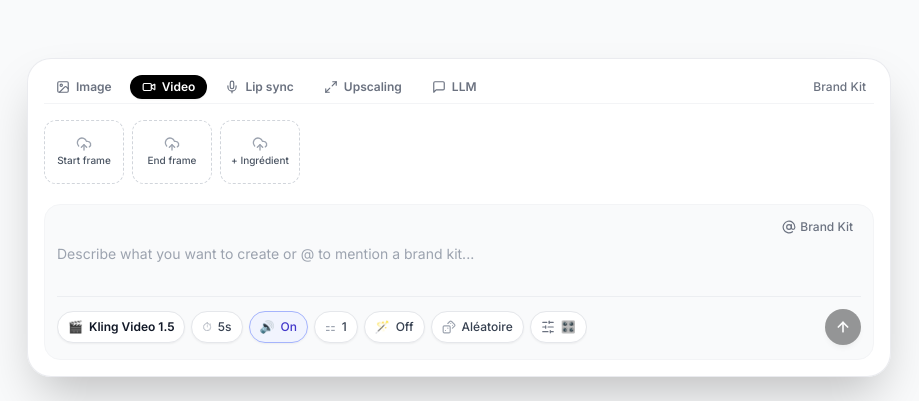
Test: LLM Mode & FloatingPromptDock Integration (TDD) › FloatingPromptDock › submits generation with exact mode type and catches submission errors
Note: In Image mode
Click the tab "Image" at (84, 86), box [44,74,124,98]
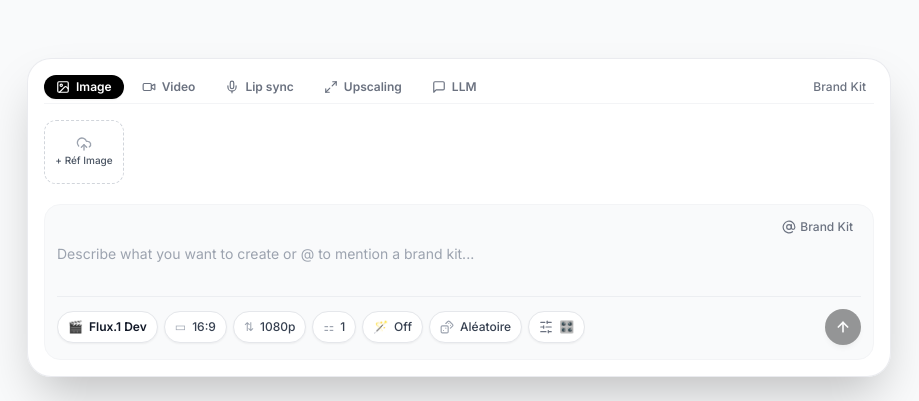
Replace the text in the text box with placeholder "Describe what you want to create" with "Futuristic city" at (459, 265), box [57,242,861,288]
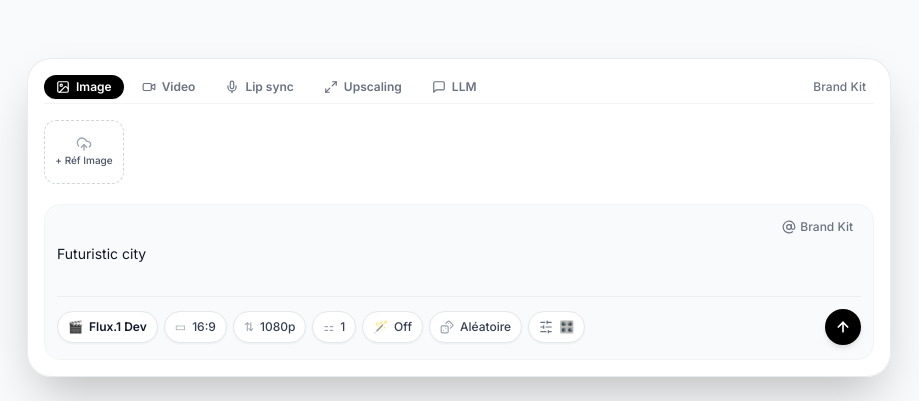
Note: Click submit
Click the button named "Submit" at (843, 327), box [825,309,861,345]
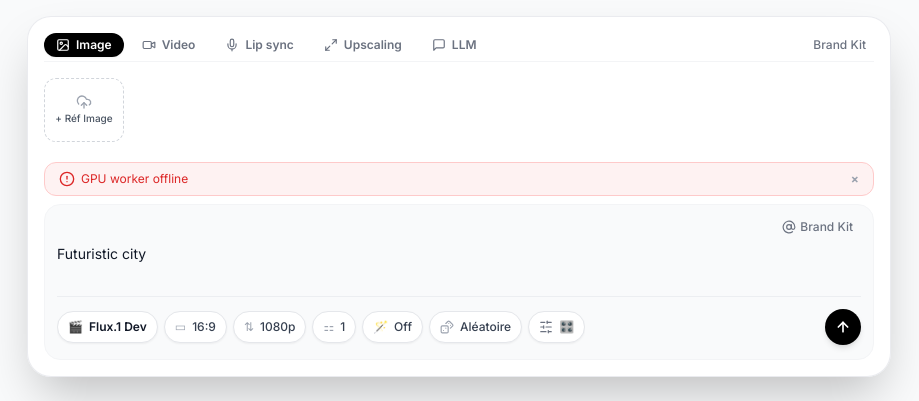
Check: the text "GPU worker offline" is shown, box [81,170,188,186]
Note: Dismiss error
Click the button named "Dismiss error" at (855, 178), box [851,170,859,186]
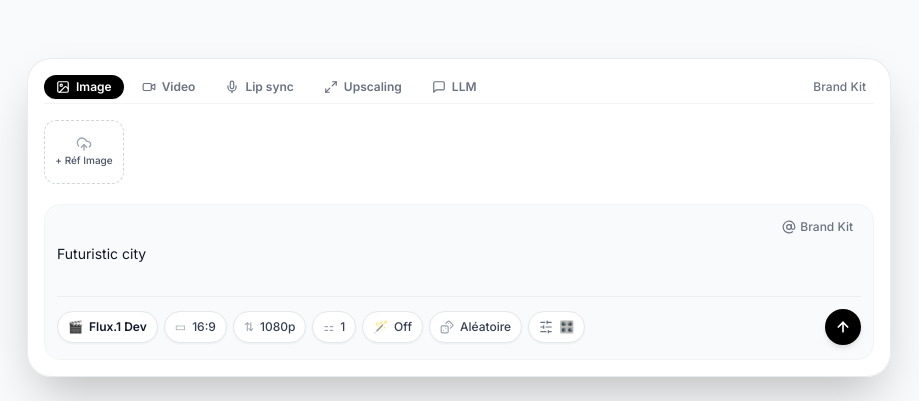
Check: the text "GPU worker offline" is gone
